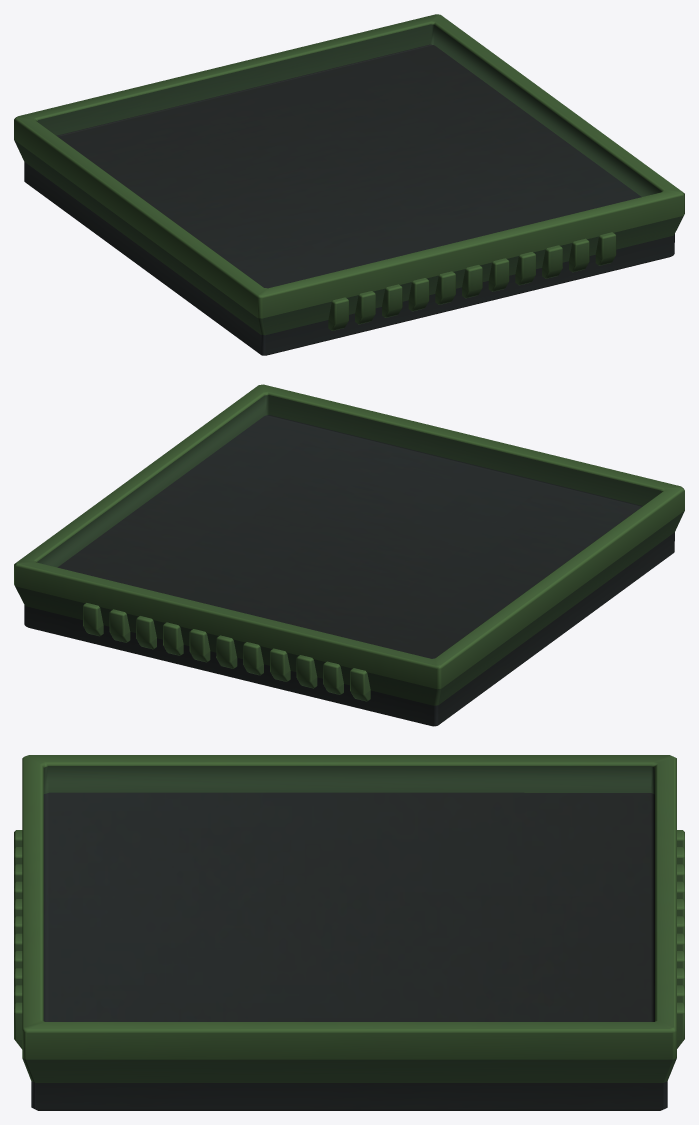
Rendered from office_building_type1_roof_brown.fbx.
3 renders of one model, top to bottom at view 1: azimuth 30°, elevation 25°; view 2: azimuth 150°, elevation 25°; view 3: azimuth 270°, elevation 25°, orthographic. The views are drawn at different scales.
Visible parts, largest first — view 1: office_building_type1_roof_brown; view 2: office_building_type1_roof_brown; view 3: office_building_type1_roof_brown.
Part boxes in pixels (x1,y1,x2,y2): office_building_type1_roof_brown: (14,14,684,355); office_building_type1_roof_brown: (14,384,684,726); office_building_type1_roof_brown: (14,755,684,1110).
Size of the model in its own units: 1600 by 232 by 1640.
